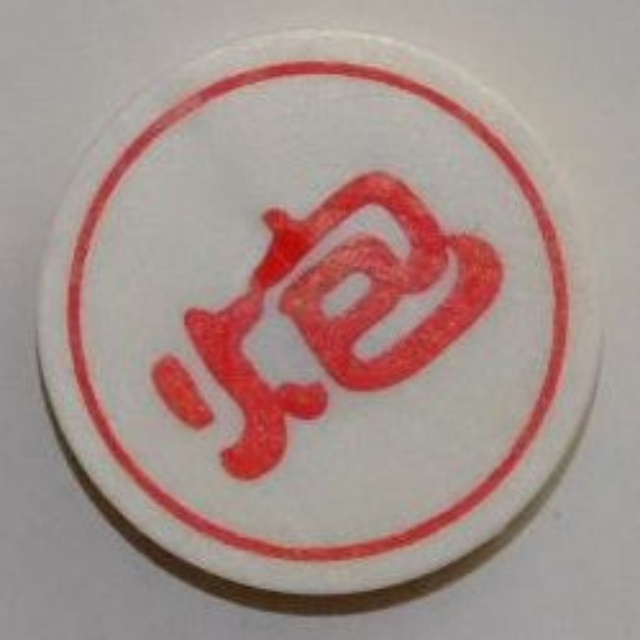red_phao: (30, 33, 608, 603)
